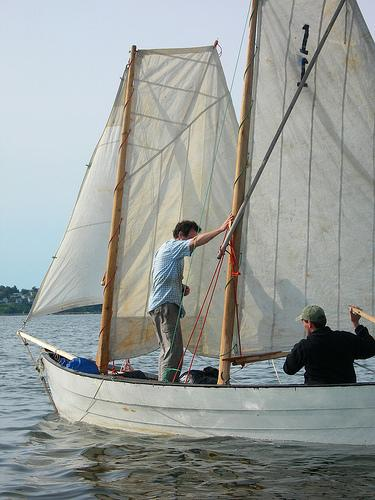Ship: (19, 1, 375, 447)
